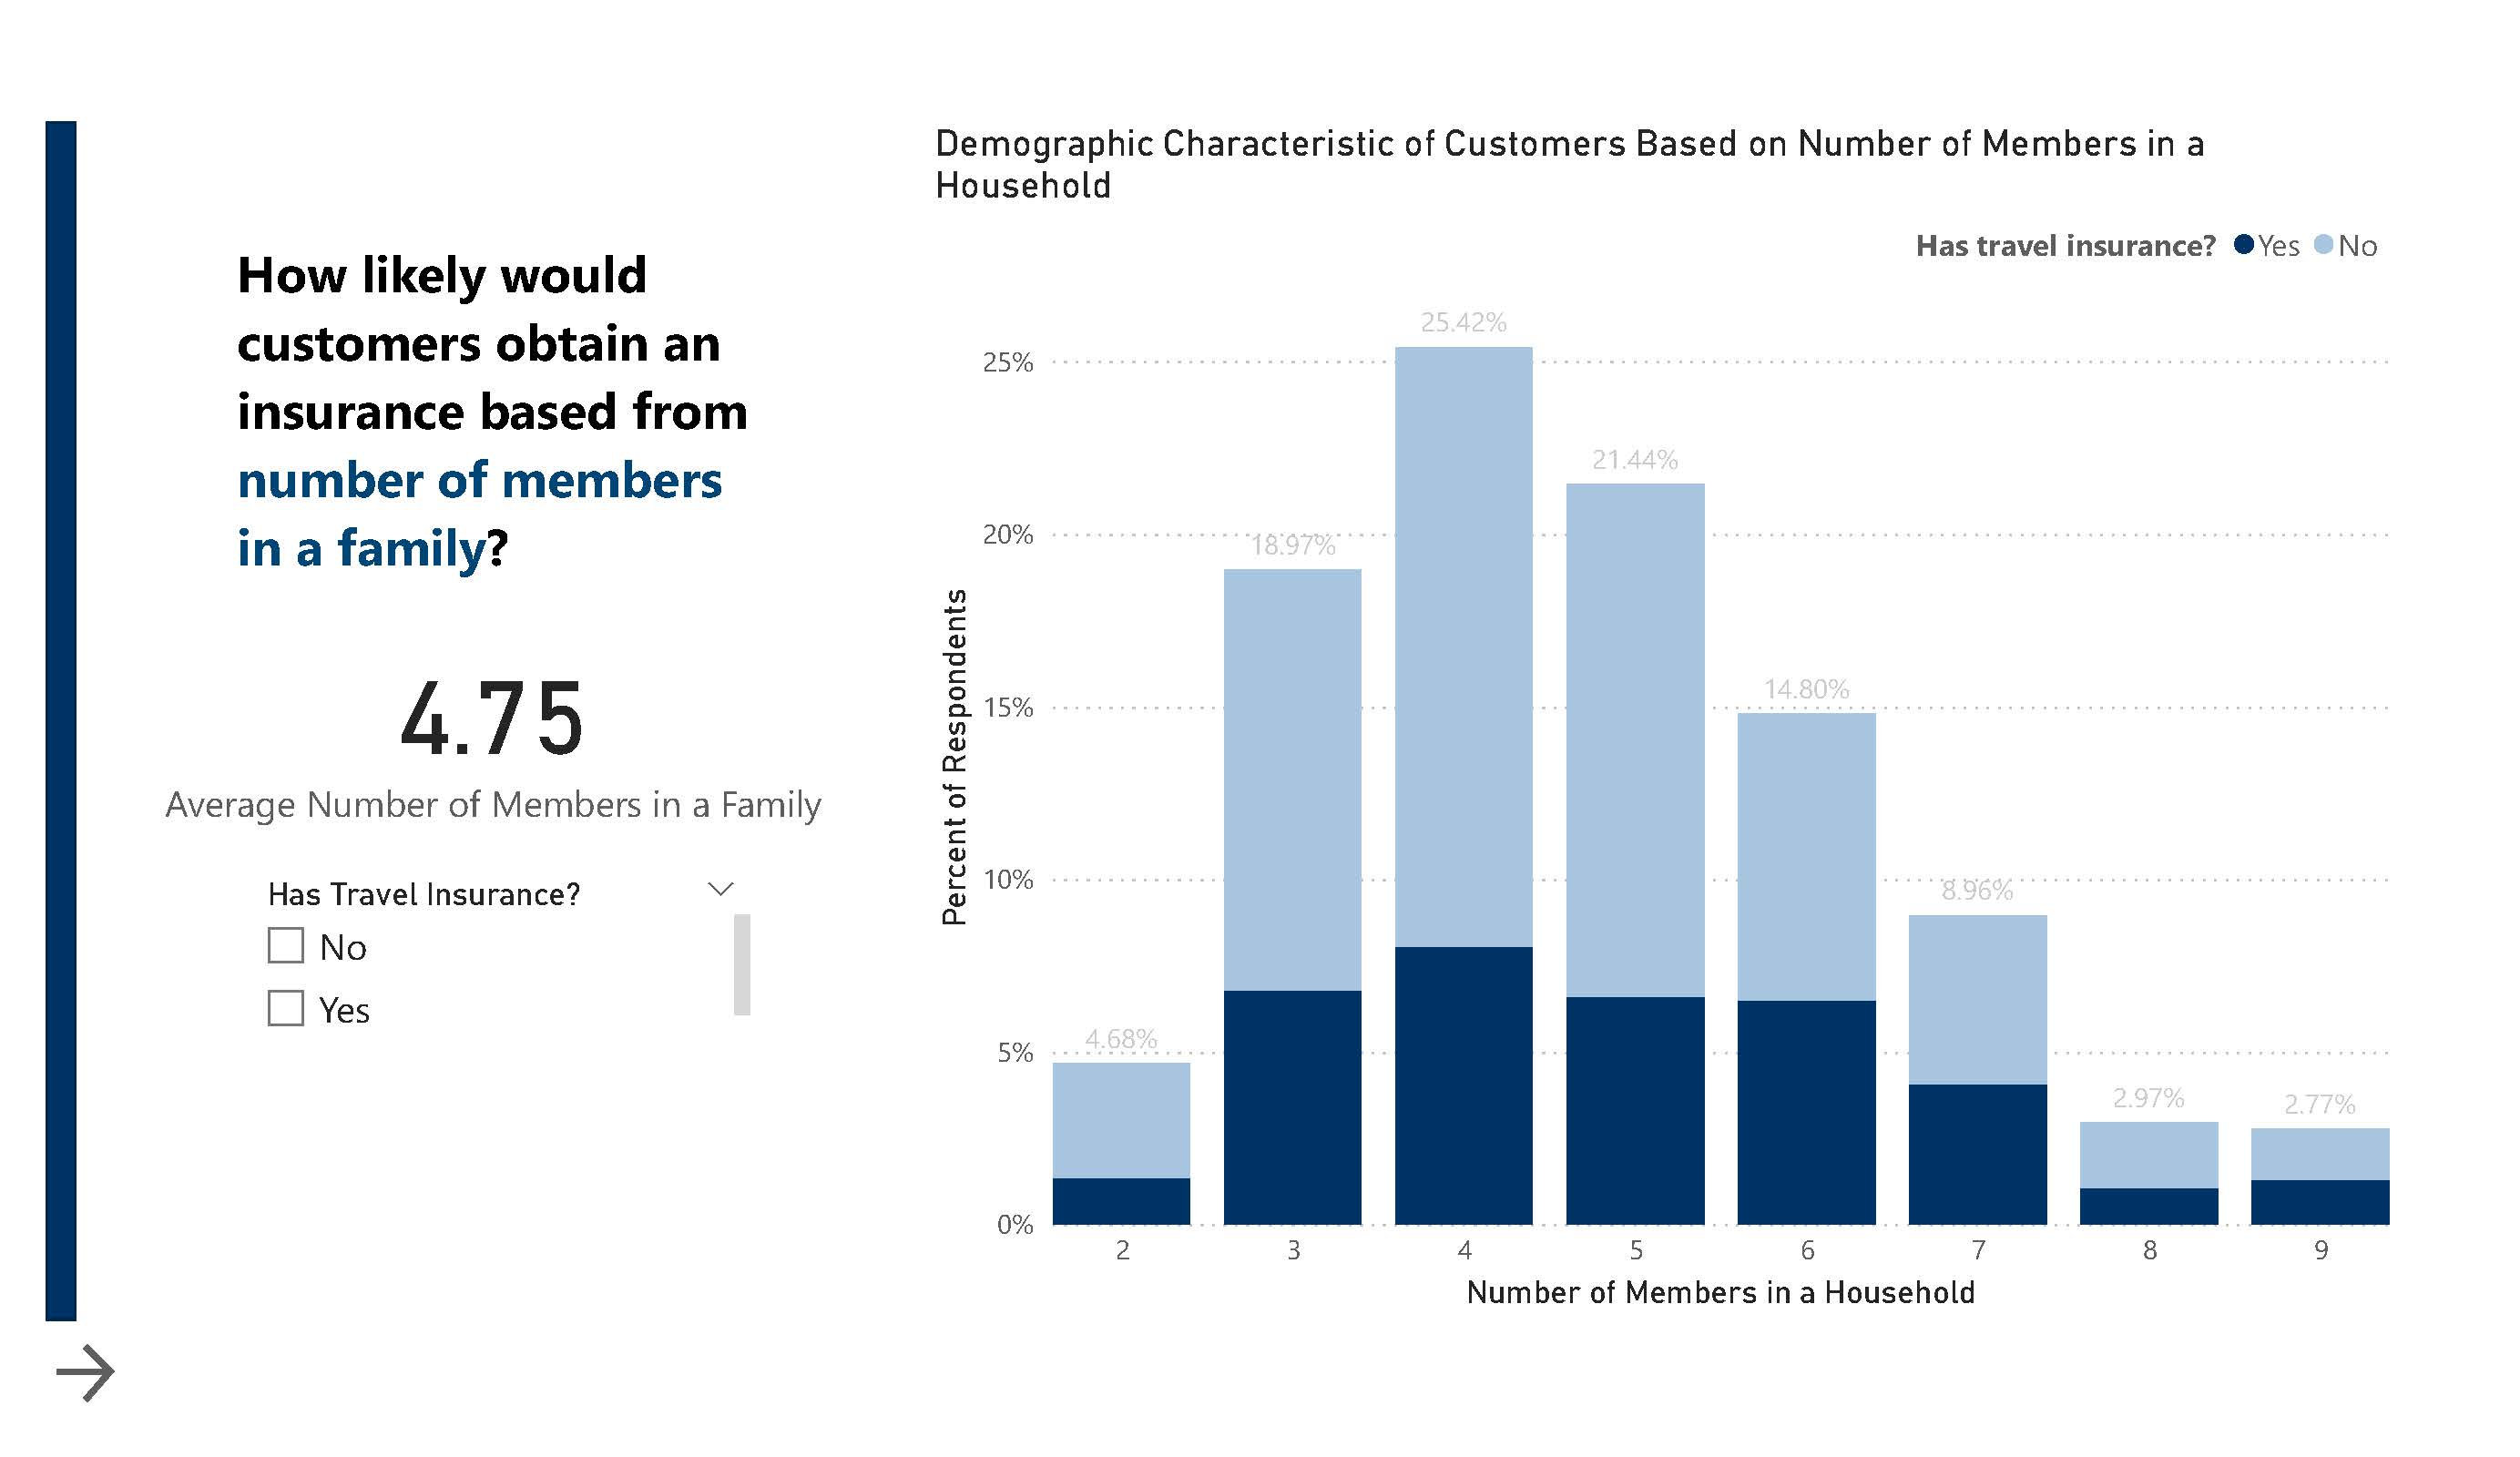

What the dashboard file says about the page in this screenshot:
{"tool":"powerbi","page":{"name":"Family Members","canvas":[1280,720],"ordinal":2},"visuals":[{"type":"columnChart","title":"Demographic Characteristic of Customers Based on Number of Members in a Household","fields":{"Category":["travel_insurance.FamilyMembers"],"Y":["Divide(CountNonNull(travel_insurance.TravelInsurance), ScopedEval(CountNonNull(travel_insurance.TravelInsurance), []))"],"Series":["travel_insurance.TravelInsurance"]},"box":[464,40,776,632],"z":0},{"type":"card","fields":{"Values":["travel_insurance.AverageNumberMembersHousehold"]},"box":[40,304,392,112],"z":1000},{"type":"slicer","fields":{"Values":["travel_insurance.TravelInsurance"]},"box":[104,432,272,96],"z":2000},{"type":"shape","box":[0,40,16,632],"z":3000},{"type":"textbox","box":[96,96,288,208],"z":4000},{"type":"actionButton","box":[0,680,48,40],"z":4001}]}

Visuals, with their boxes in screenshot pixels (x1, y1, x2, y2):
"Demographic Characteristic of Customers Based on Number of Members in a Household" columnChart: [926, 121, 2399, 1320]
card - travel_insurance.AverageNumberMembersHousehold: [121, 622, 865, 835]
slicer - travel_insurance.TravelInsurance: [243, 865, 759, 1047]
shape: [46, 121, 76, 1320]
textbox: [228, 228, 774, 622]
actionButton: [46, 1336, 137, 1411]
